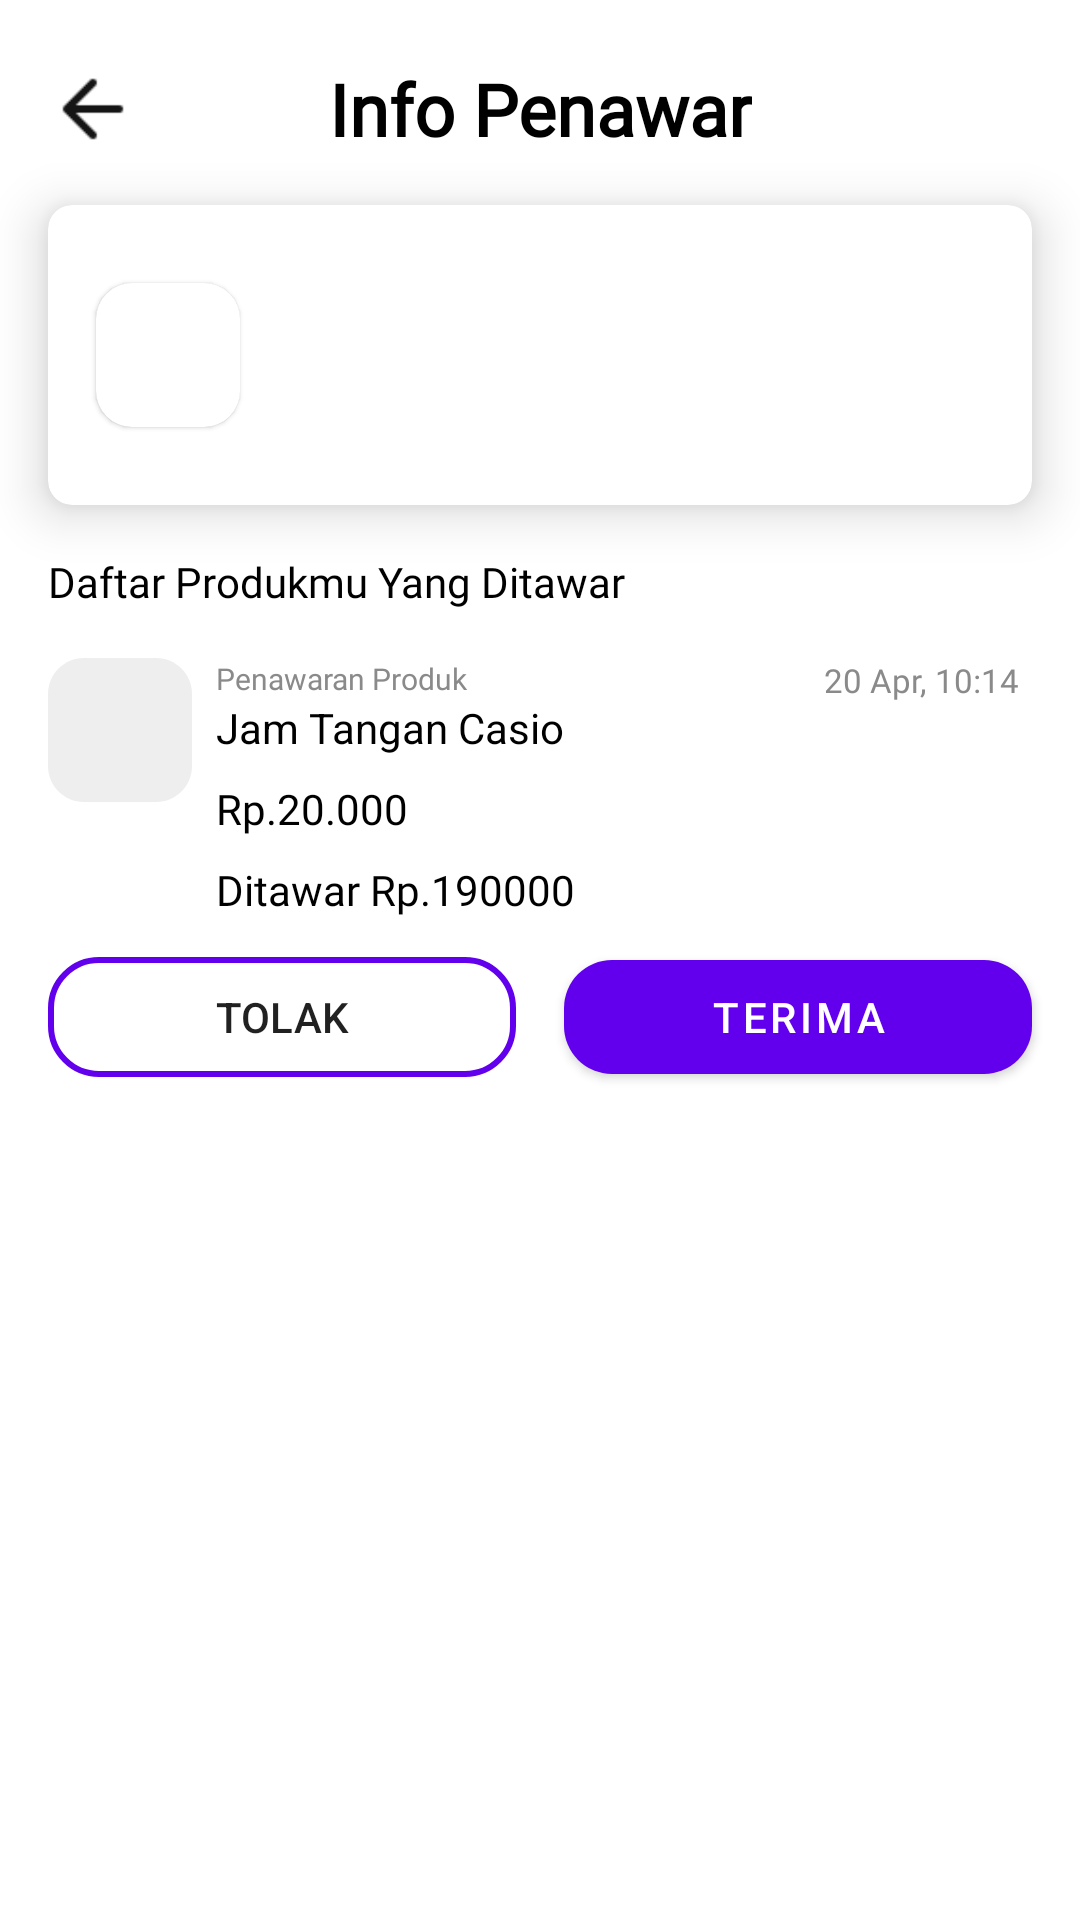

Where icons sit on this 1080x1920 app screen, as (x1, y1, x2, y2):
back: (62, 78, 124, 140)
